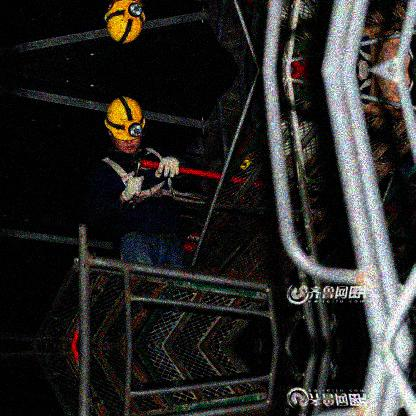helmet: (104, 95, 147, 154)
